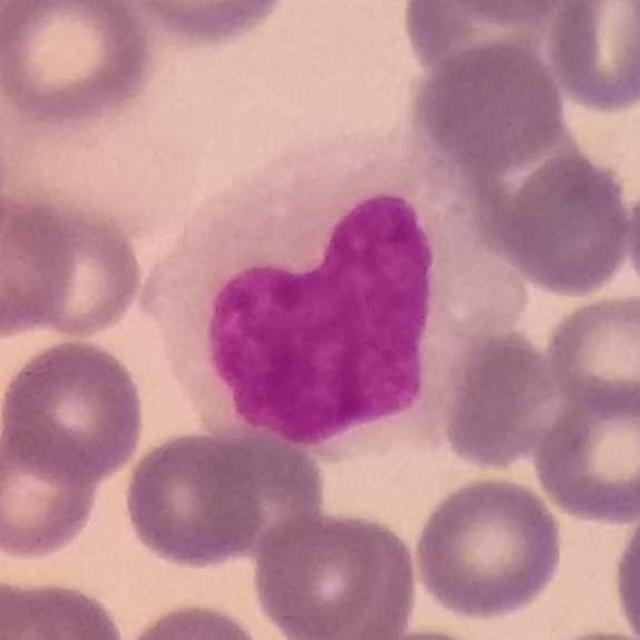mono: (141, 122, 534, 464)
